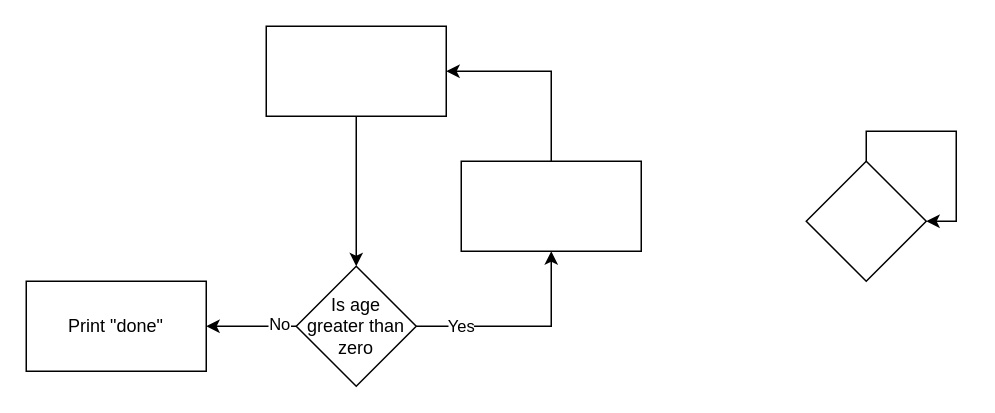
Image size: 995x413. Some labels were removed from this diagram. Each missing label, with the box of its shape:
Ask a user for their age and store in a variable: (265, 25, 446, 116)
Print age: (460, 160, 641, 251)
